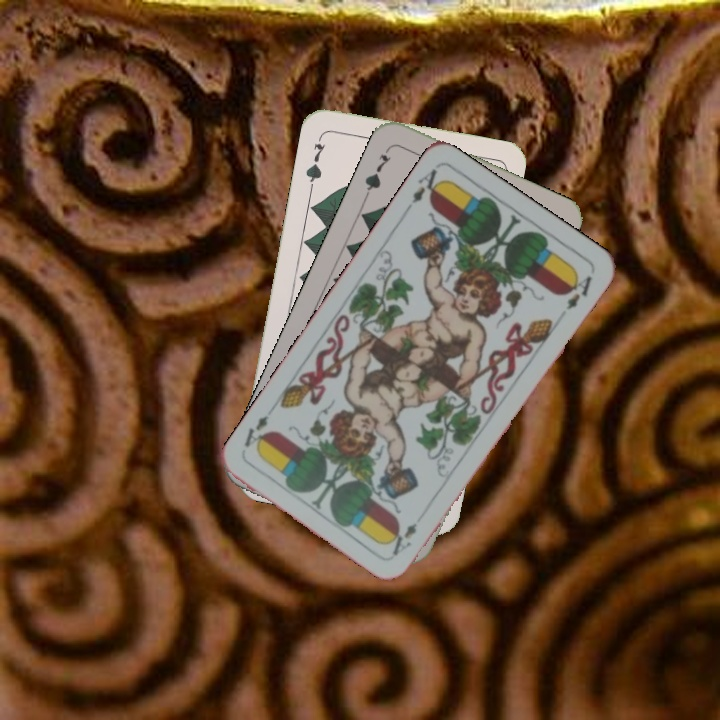EA: (401, 164, 446, 215), (388, 518, 420, 559)
G7: (360, 143, 394, 199), (301, 131, 328, 190)
